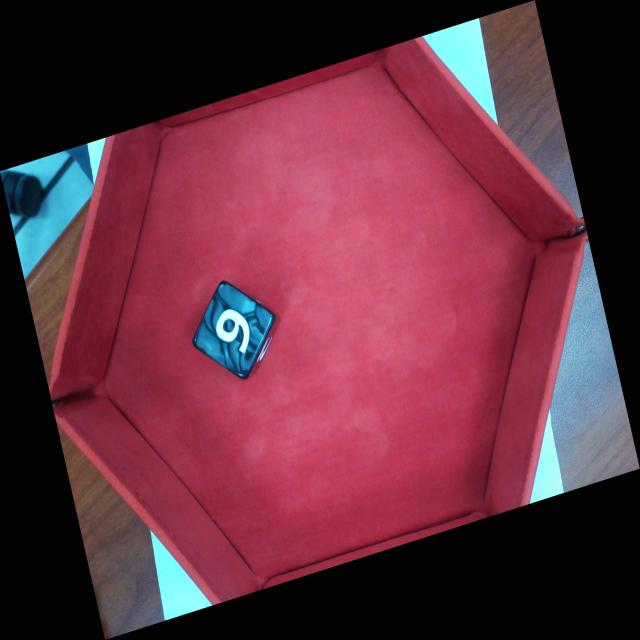dice: (194, 280, 277, 375)
